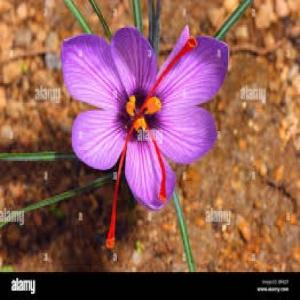Saffron: (63, 29, 230, 213)
